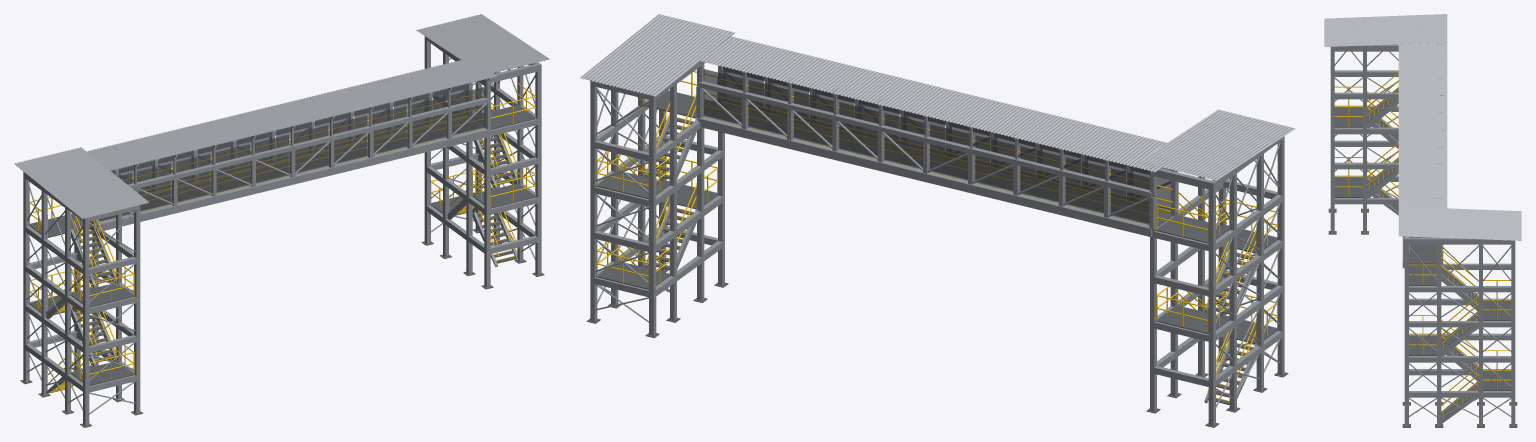
File: Rail_Footbridge.glb
3 renders of one model, left to right at view 1: azimuth 30°, elevation 25°; view 2: azimuth 150°, elevation 25°; view 3: azimuth 270°, elevation 25°, orthographic. The views are drawn at different scales.
Parts seen in each view (by area): view 1: deck_grating, bottom_chord_-1_8a7a98, top_chord_-1_10b935, top_chord_1_cfed36, bottom_chord_-1, roof_sheet, safety_screen_-1_2_39addb, safety_screen_-1_3_b4f6b2, safety_screen_-1_7_5e8d11, safety_screen_-1_8_78d46b, safety_screen_-1_5_f4c9c9, safety_screen_-1_6_9b7c7b (+36 smaller); view 2: deck_grating, bottom_chord_1_a32e5b, top_chord_1_0058e2, top_chord_-1_5c7f9b, bottom_chord_1_01173d, roof_sheet, safety_screen_1_1_a031a1, safety_screen_1_7, safety_screen_1_2_39cbc2, safety_screen_1_3_bbdb35, safety_screen_1_5_16da09, safety_screen_1_8_a1abdb (+38 smaller); view 3: east_column_1_0_fa4da5, east_column_1_3_7a3b2f, west_column_0_3_f8920c, east_column_1_1_70ba76, roof_sheet, east_column_1_2_b429ab, west_column_0_2_8f128c, east_side_beam_1_1, east_side_beam_0_1_1dca9e, east_side_beam_2_1_2e1c11, east_side_beam_4_1_a42897, east_side_beam_3_1_b157ec (+66 smaller).
Part boxes in pixels (x1,y1,x2,y2): deck_grating: (90,118,483,222); bottom_chord_-1_8a7a98: (98,129,489,230); top_chord_-1_10b935: (130,98,489,189); top_chord_1_cfed36: (112,85,467,174); bottom_chord_-1: (98,128,489,224); roof_sheet: (97,60,493,167); safety_screen_-1_2_39addb: (176,154,210,201); safety_screen_-1_3_b4f6b2: (215,144,249,191); safety_screen_-1_7_5e8d11: (372,106,406,152); safety_screen_-1_8_78d46b: (411,96,445,143); safety_screen_-1_5_f4c9c9: (294,125,328,171); safety_screen_-1_6_9b7c7b: (333,116,367,162); deck_grating: (704,105,1172,225); bottom_chord_1_a32e5b: (698,118,1150,236); top_chord_1_0058e2: (698,82,1151,197); top_chord_-1_5c7f9b: (723,67,1149,174); bottom_chord_1_01173d: (698,116,1150,228); roof_sheet: (718,36,1153,170); safety_screen_1_1_a031a1: (1065,157,1105,212); safety_screen_1_7: (794,91,833,145); safety_screen_1_2_39cbc2: (1020,146,1059,201); safety_screen_1_3_bbdb35: (975,135,1014,190); safety_screen_1_5_16da09: (884,113,924,167); safety_screen_1_8_a1abdb: (748,80,788,134); east_column_1_0_fa4da5: (1404,239,1408,426); east_column_1_3_7a3b2f: (1511,240,1515,426); west_column_0_3_f8920c: (1330,46,1334,233); east_column_1_1_70ba76: (1437,240,1441,426); roof_sheet: (1398,70,1447,202); east_column_1_2_b429ab: (1479,239,1482,426); west_column_0_2_8f128c: (1363,47,1366,233); east_side_beam_1_1: (1406,357,1513,362); east_side_beam_0_1_1dca9e: (1406,392,1513,397); east_side_beam_2_1_2e1c11: (1406,322,1513,327); east_side_beam_4_1_a42897: (1406,239,1513,244); east_side_beam_3_1_b157ec: (1406,287,1513,292).
Bounding box in the file's own units: 26 × 10.58 × 9.74.
